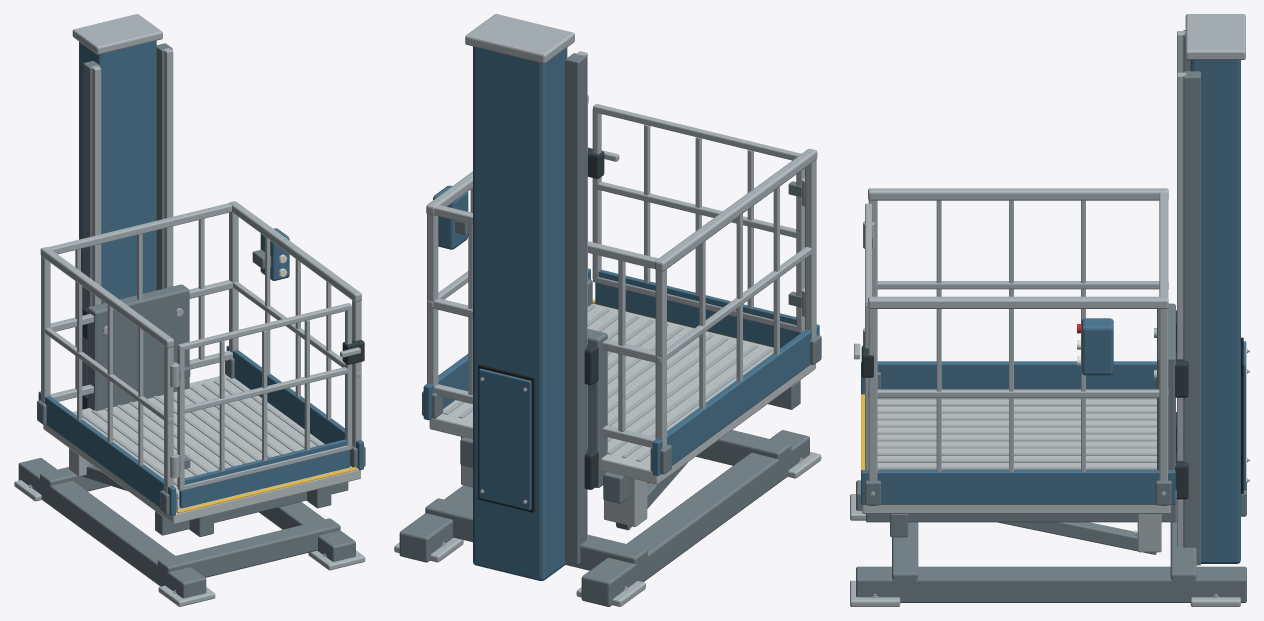
File: city-vertical-platform-lift.glb
The picture shows the model from 3 angles, left to right: view 1: azimuth 30°, elevation 25°; view 2: azimuth 150°, elevation 25°; view 3: azimuth 270°, elevation 25°; orthographic projection. The views are drawn at different scales.
Parts seen in each view (by area): view 1: Assembly | Satin stainless structural metal, Assembly | Dark galvanized support steel, Assembly | Industrial blue coated steel, Assembly | Brushed aluminum treads, Assembly | Warm yellow edge markings, Assembly | Graphite machinery paint; view 2: Assembly | Industrial blue coated steel, Assembly | Satin stainless structural metal, Assembly | Dark galvanized support steel, Assembly | Brushed aluminum treads, Assembly | Graphite machinery paint, Assembly | Charcoal rubber handrails and pads; view 3: Assembly | Satin stainless structural metal, Assembly | Industrial blue coated steel, Assembly | Dark galvanized support steel, Assembly | Brushed aluminum treads, Assembly | Graphite machinery paint.
Boxes of the visible parts, bbox=[...] form: Assembly | Satin stainless structural metal: bbox=[14, 14, 365, 606]; Assembly | Dark galvanized support steel: bbox=[18, 43, 365, 598]; Assembly | Industrial blue coated steel: bbox=[38, 40, 363, 515]; Assembly | Brushed aluminum treads: bbox=[43, 374, 360, 524]; Assembly | Warm yellow edge markings: bbox=[176, 467, 357, 513]; Assembly | Graphite machinery paint: bbox=[83, 307, 364, 409]; Assembly | Industrial blue coated steel: bbox=[423, 46, 819, 580]; Assembly | Satin stainless structural metal: bbox=[394, 14, 821, 606]; Assembly | Dark galvanized support steel: bbox=[399, 53, 821, 606]; Assembly | Brushed aluminum treads: bbox=[429, 303, 815, 484]; Assembly | Graphite machinery paint: bbox=[584, 147, 604, 489]; Assembly | Charcoal rubber handrails and pads: bbox=[478, 364, 534, 512]; Assembly | Satin stainless structural metal: bbox=[850, 14, 1249, 606]; Assembly | Industrial blue coated steel: bbox=[861, 60, 1246, 563]; Assembly | Dark galvanized support steel: bbox=[856, 30, 1246, 602]; Assembly | Brushed aluminum treads: bbox=[862, 399, 1170, 513]; Assembly | Graphite machinery paint: bbox=[861, 310, 1188, 499].
Bounding box in the file's own units: 1.47 × 2.87 × 2.
